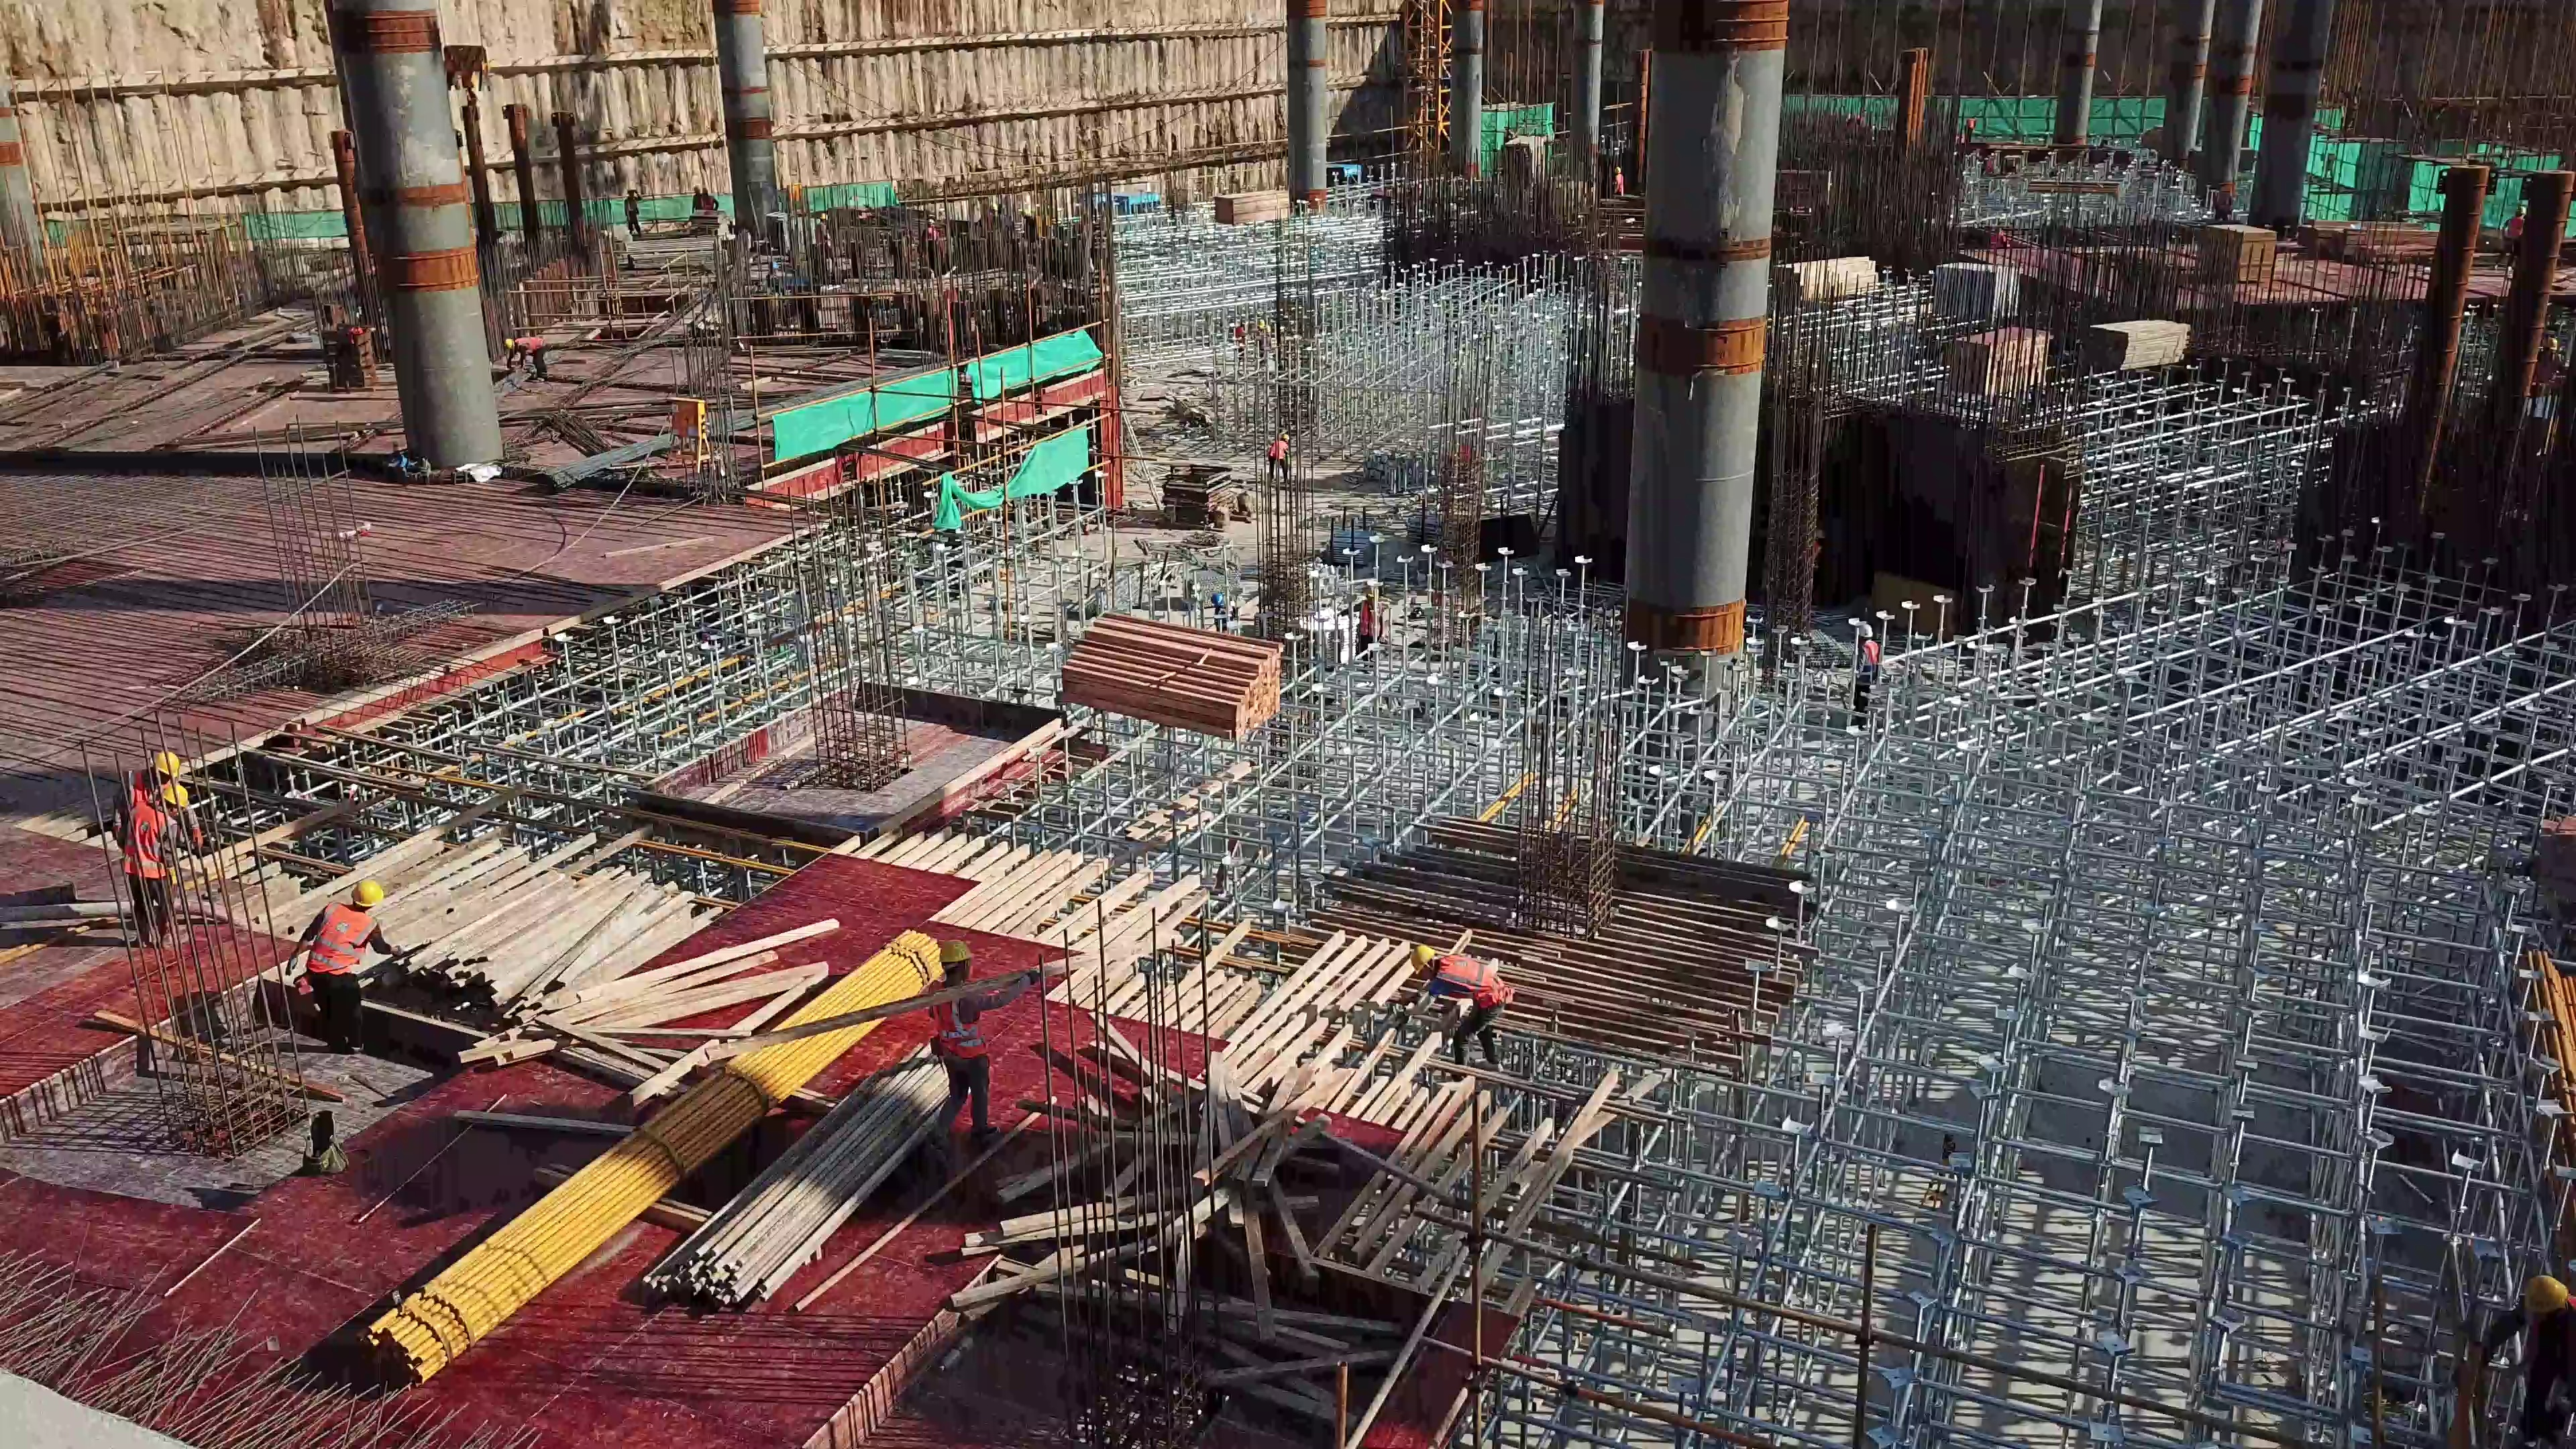board: (1955, 329, 2047, 392), (2204, 224, 2267, 278)
ebox: (670, 401, 712, 472), (784, 183, 807, 207)
helmet: (2520, 1273, 2569, 1315), (936, 939, 974, 965), (352, 877, 386, 908), (149, 751, 182, 774), (156, 785, 188, 808), (1411, 943, 1434, 973), (1858, 621, 1872, 637), (2542, 337, 2561, 350), (1210, 591, 1223, 604), (504, 335, 513, 351), (1817, 526, 1824, 540), (2516, 205, 2526, 214), (1280, 432, 1289, 441), (1615, 166, 1621, 175)
hook: (440, 41, 490, 104)
person: (928, 940, 1036, 1144), (285, 880, 415, 1051), (2477, 1270, 2574, 1449), (1389, 943, 1516, 1076), (117, 784, 189, 950), (111, 751, 207, 851), (1334, 586, 1386, 661), (1851, 625, 1878, 720), (2531, 335, 2567, 401), (2492, 203, 2525, 271), (503, 335, 549, 379), (1207, 590, 1245, 634), (767, 260, 789, 323), (918, 215, 943, 270), (1267, 433, 1292, 482), (815, 212, 834, 270), (625, 186, 643, 237), (1808, 526, 1825, 574), (700, 186, 718, 212), (1238, 319, 1248, 357), (1613, 164, 1625, 197), (1966, 115, 1976, 141), (691, 184, 701, 212)
rebar: (551, 350, 954, 494)
scaffold: (1330, 520, 1375, 568), (764, 211, 810, 248), (1409, 506, 1445, 540)
slogan: (1110, 193, 1153, 207)
vest: (310, 900, 370, 981), (1438, 954, 1510, 1007), (122, 808, 169, 879), (933, 1001, 989, 1056), (127, 767, 153, 804), (2536, 353, 2561, 384), (1358, 599, 1377, 633), (515, 337, 541, 352), (1862, 640, 1876, 670), (2509, 219, 2524, 241), (1272, 440, 1286, 458), (701, 198, 712, 209), (1966, 117, 1974, 130), (1615, 176, 1621, 191)
wood: (1061, 612, 1278, 736), (2301, 220, 2440, 256), (1780, 256, 1878, 297), (2092, 321, 2185, 366), (1216, 192, 1287, 223), (2031, 180, 2122, 197)
